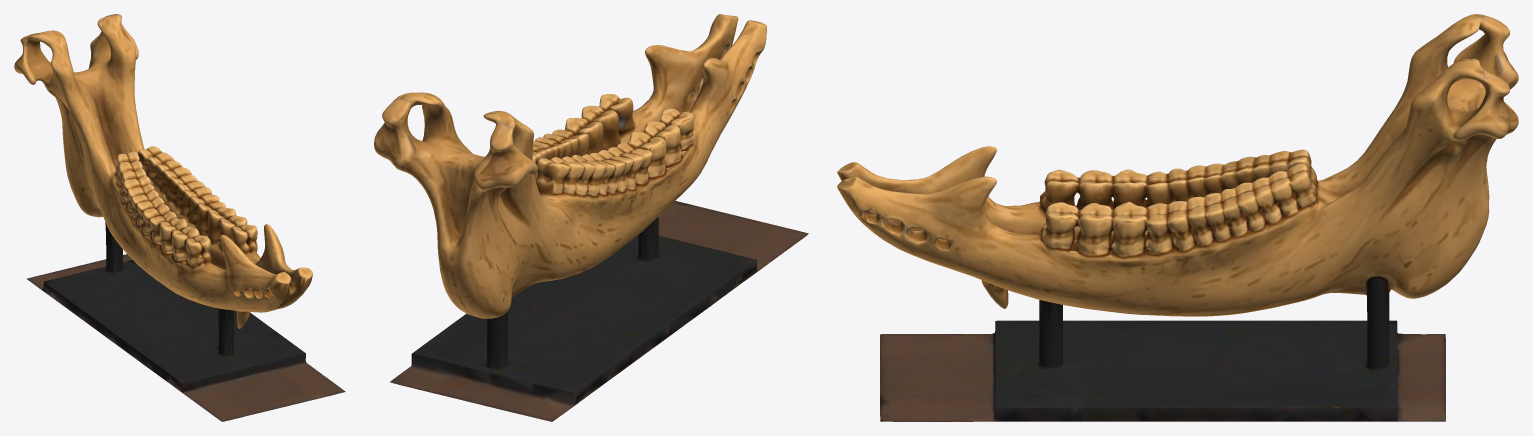
Rendered from 06-quijada-burro.glb.
3 renders of one model, left to right at view 1: azimuth 30°, elevation 25°; view 2: azimuth 150°, elevation 25°; view 3: azimuth 270°, elevation 25°, orthographic. The views are drawn at different scales.
Bounding box in the file's own units: 0.5764 × 1.04 × 1.9.
1 material, 1 textured.
